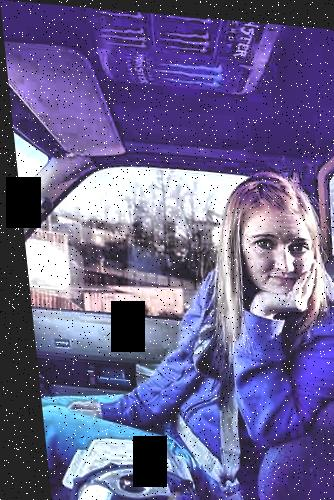seatbelt: (119, 338, 268, 487)
